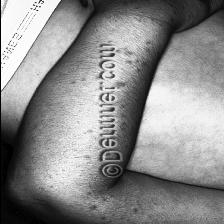Toxin: (115, 40, 151, 72), (112, 82, 126, 90)
